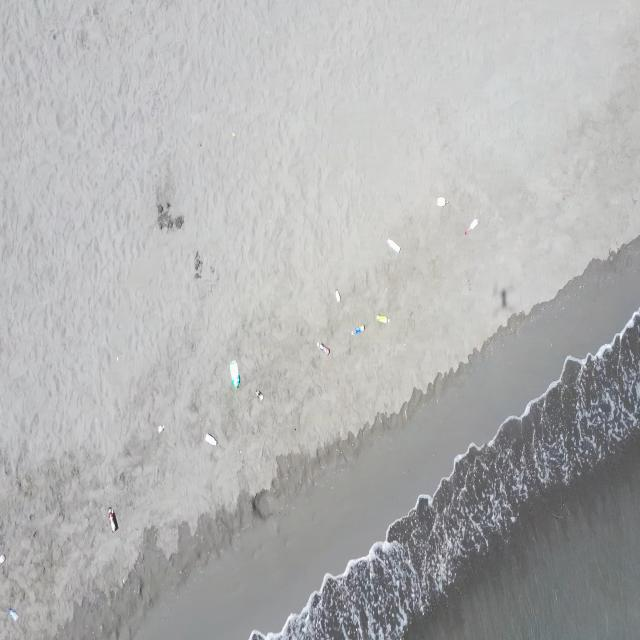Garbage: (108, 508, 118, 531), (193, 253, 201, 278), (231, 360, 238, 387), (464, 219, 477, 233), (387, 238, 399, 252), (316, 342, 328, 355), (204, 432, 216, 444), (352, 324, 364, 335), (8, 607, 18, 620), (500, 288, 506, 307), (375, 313, 387, 322), (436, 196, 446, 206), (256, 390, 263, 400), (335, 288, 340, 301), (156, 424, 163, 432), (0, 553, 4, 564), (231, 131, 235, 136)
